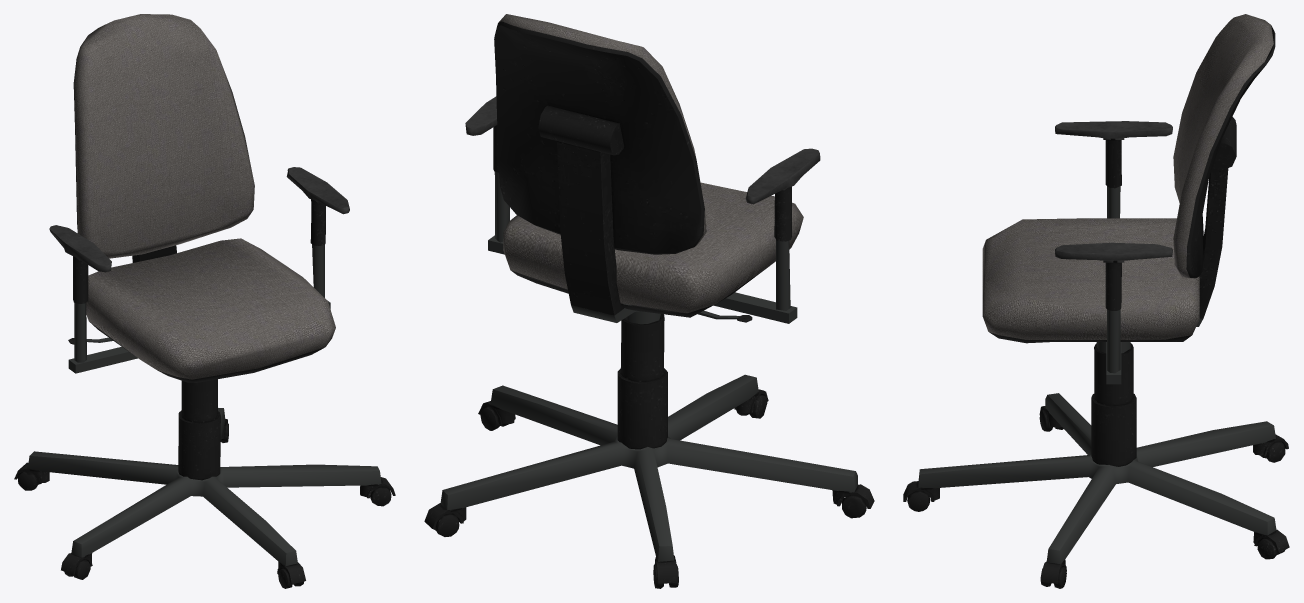
File: office_chair.glb
The picture shows the model from 3 angles, left to right: view 1: azimuth 30°, elevation 25°; view 2: azimuth 150°, elevation 25°; view 3: azimuth 270°, elevation 25°; orthographic projection. The views are drawn at different scales.
Parts seen in each view (by area): view 1: OfficeChair_OfficeChairCloth_0, OfficeChair_OfficeChairMetal_0, OfficeChair_OfficeChairPlastic_0, OfficeChair_OfficeChairLeather_0; view 2: OfficeChair_OfficeChairPlastic_0, OfficeChair_OfficeChairMetal_0, OfficeChair_OfficeChairCloth_0, OfficeChair_OfficeChairLeather_0; view 3: OfficeChair_OfficeChairCloth_0, OfficeChair_OfficeChairMetal_0, OfficeChair_OfficeChairPlastic_0, OfficeChair_OfficeChairLeather_0.
Boxes of the visible parts, x1,y1,x2,y2 form: OfficeChair_OfficeChairCloth_0: (74, 14, 335, 379); OfficeChair_OfficeChairMetal_0: (28, 244, 381, 565); OfficeChair_OfficeChairPlastic_0: (14, 52, 395, 588); OfficeChair_OfficeChairLeather_0: (49, 167, 349, 272); OfficeChair_OfficeChairPlastic_0: (424, 21, 874, 588); OfficeChair_OfficeChairMetal_0: (440, 171, 857, 561); OfficeChair_OfficeChairCloth_0: (498, 14, 803, 313); OfficeChair_OfficeChairLeather_0: (465, 96, 820, 204); OfficeChair_OfficeChairCloth_0: (982, 14, 1273, 339); OfficeChair_OfficeChairMetal_0: (918, 186, 1276, 564); OfficeChair_OfficeChairPlastic_0: (903, 25, 1289, 588); OfficeChair_OfficeChairLeather_0: (1055, 121, 1172, 262).
Size of the model in its own units: 0.8351 by 1.08 by 0.7951.
4 materials, 3 textured.
